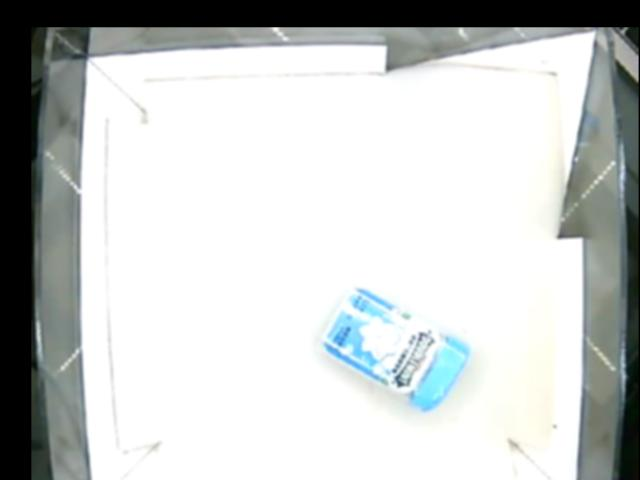Bottle: (319, 291, 473, 413)
